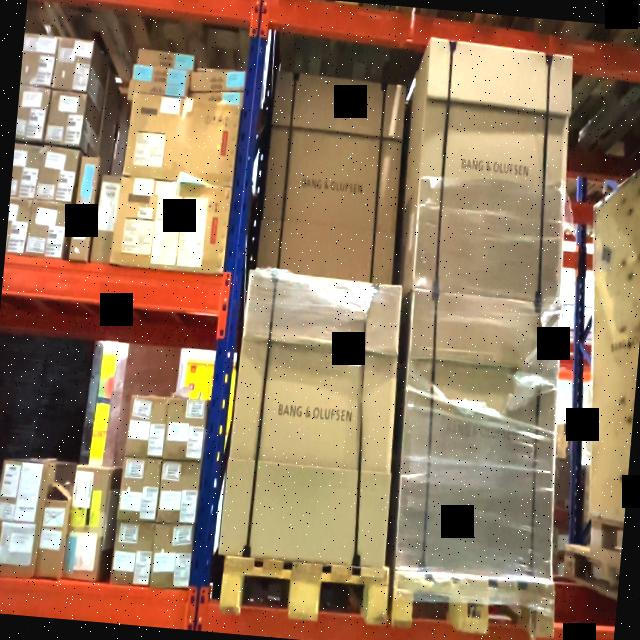box: (226, 276, 402, 568), (394, 296, 562, 574), (412, 40, 578, 303), (262, 69, 408, 281)
